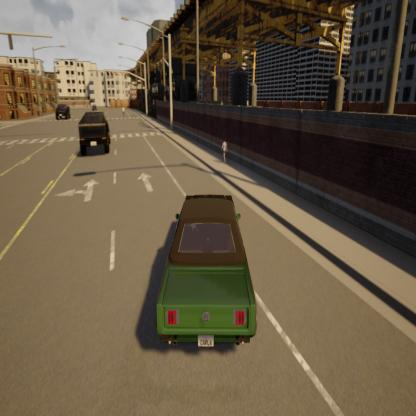Cars: (146, 168, 263, 355), (75, 100, 115, 170), (51, 84, 74, 134)
Pedestrian: (215, 131, 237, 190)
